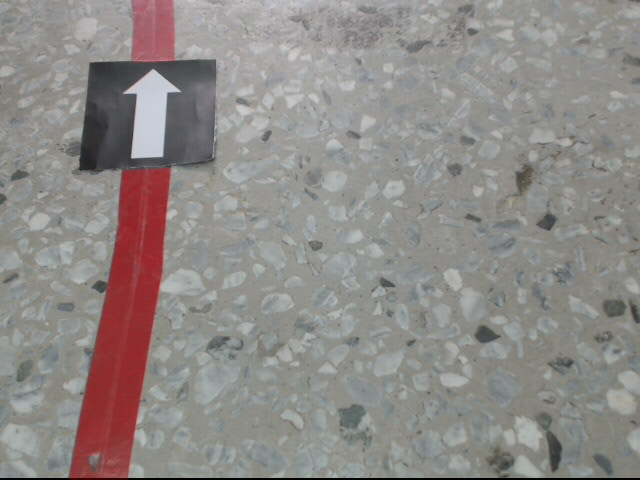straight: (79, 59, 219, 167)
